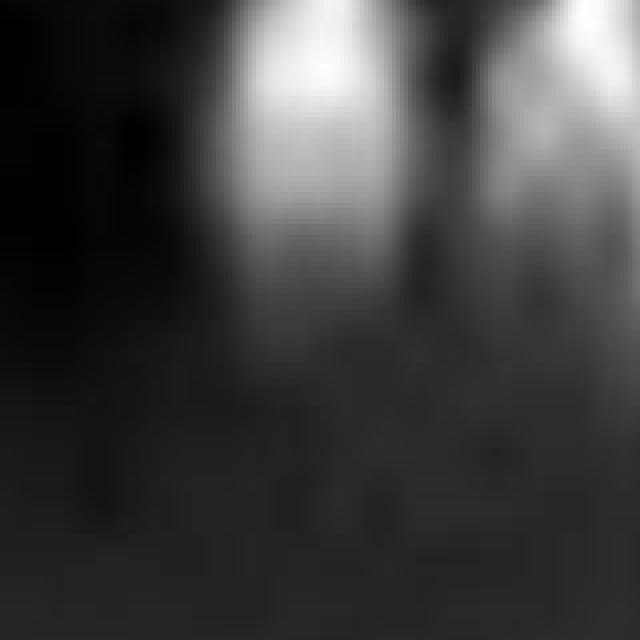person: (213, 1, 421, 396), (469, 1, 640, 390)
